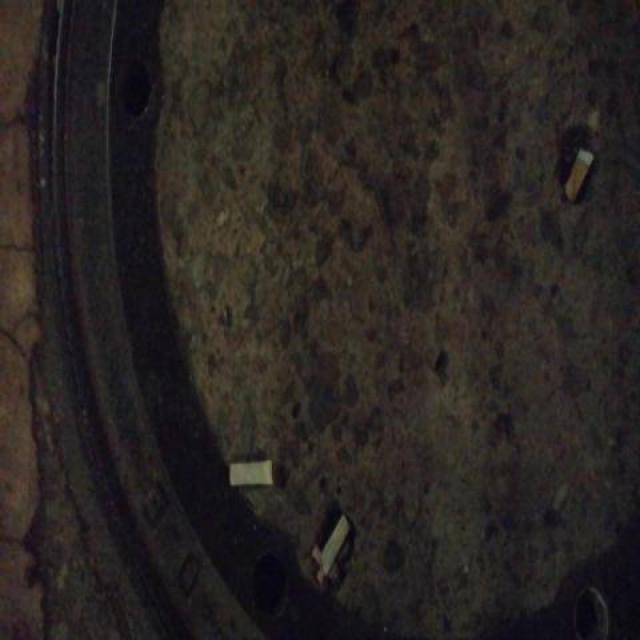non-organic waste: (316, 509, 356, 578), (560, 143, 597, 205), (227, 458, 278, 493)
